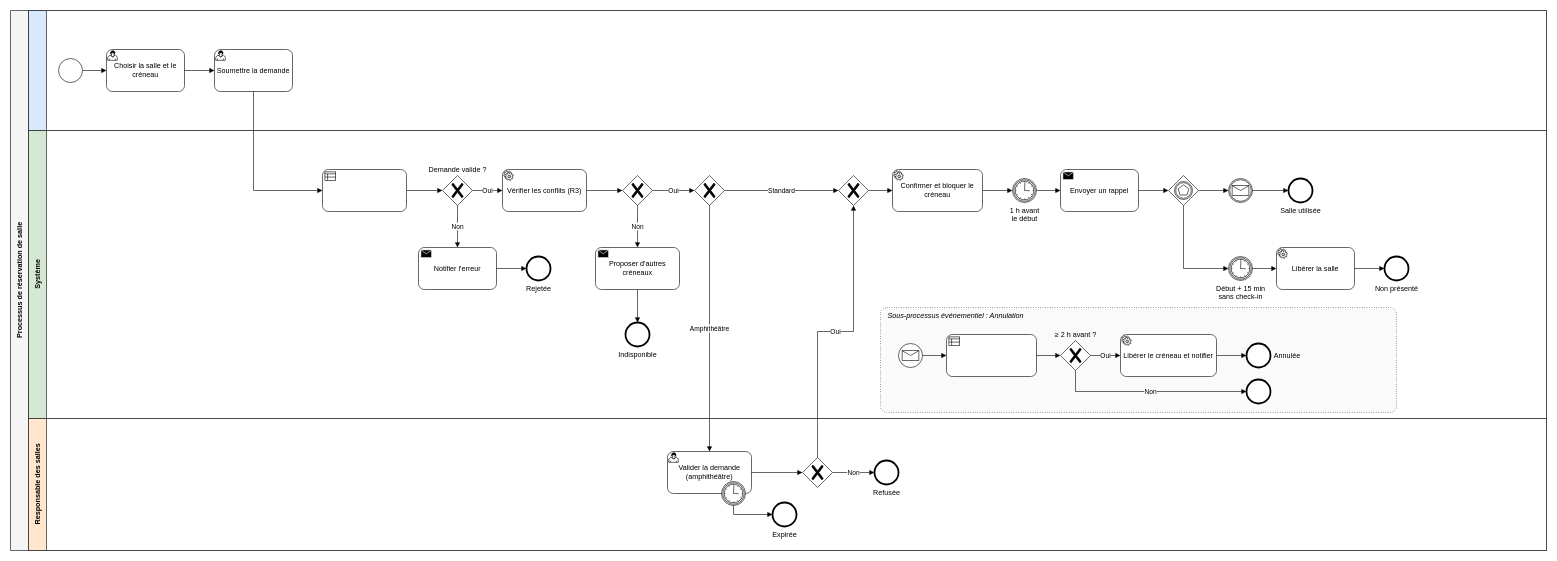
The diagram is 1557 pixels wide and 561 high, and some of its shapes have lost their labels. Each missing label, with the box of its shape:
24 h sans réponse: (721, 481, 746, 506)
Annulation refusée: (1246, 379, 1270, 404)
Approuvée ?: (802, 457, 832, 488)
Besoin d'une salle: (58, 58, 82, 82)
Check-in reçu: (1228, 178, 1252, 202)
Créneau libre ?: (622, 175, 652, 206)
Demande d'annulation: (898, 343, 922, 368)
Demandeur: (28, 10, 1546, 130)
En attente de présence: (1168, 175, 1198, 206)
Type de salle ?: (694, 175, 724, 206)
Vérifier le délai (R6): (946, 334, 1036, 376)
Vérifier les règles R1, R2, R4: (322, 169, 406, 212)
